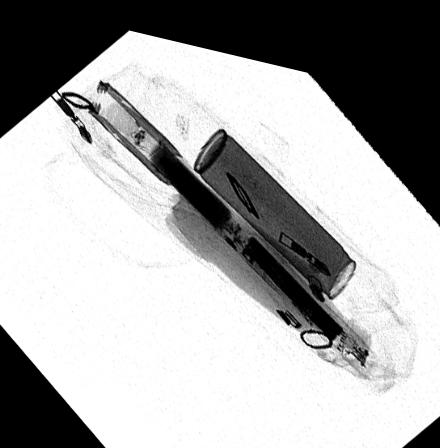Baton: (86, 73, 379, 363)
